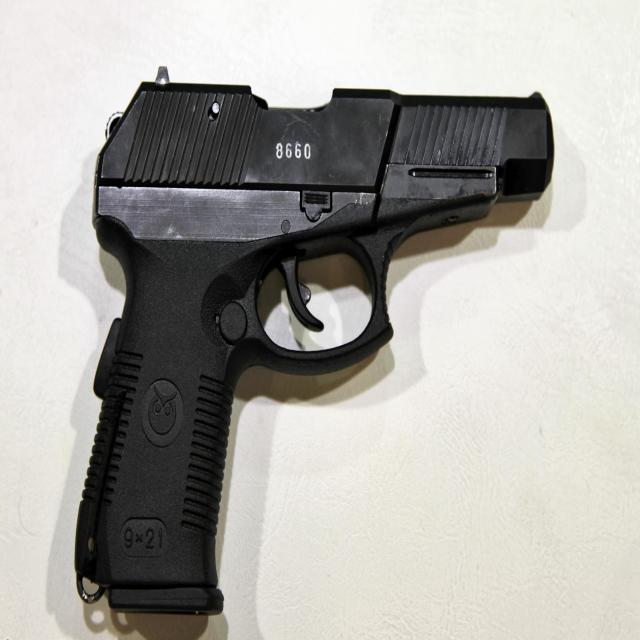pistol: (67, 59, 559, 636)
